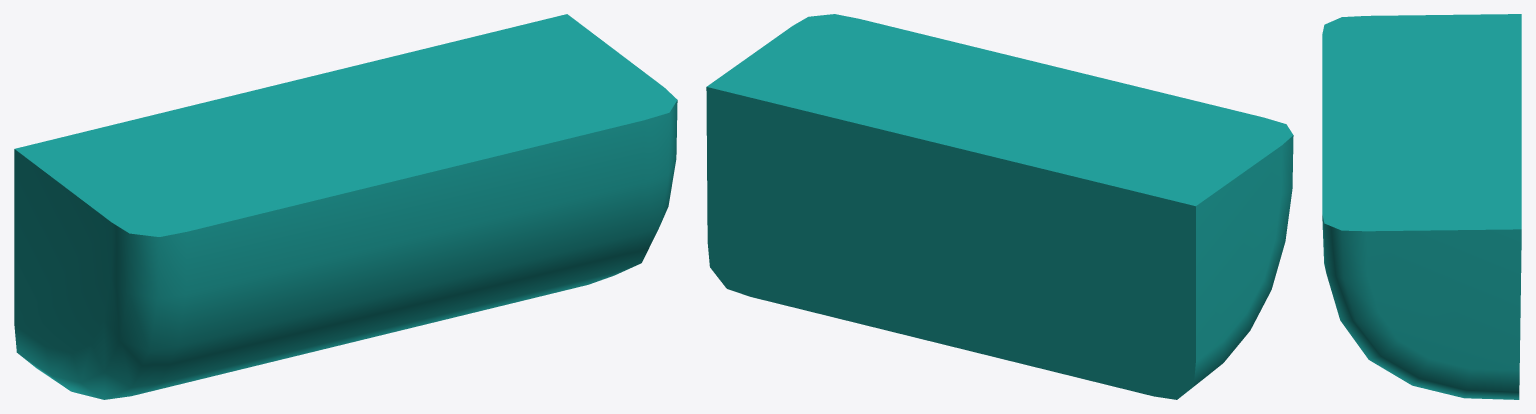
File: SM_PeriscopeExitButton.fbx
3 views of the same model, side by side, from view 1: azimuth 30°, elevation 25°; view 2: azimuth 150°, elevation 25°; view 3: azimuth 270°, elevation 25° (orthographic). The views are drawn at different scales.
Visible parts, largest first — view 1: ExitButton; view 2: ExitButton; view 3: ExitButton.
Boxes of the visible parts, bbox=[...] form: ExitButton: bbox=[14, 14, 677, 399]; ExitButton: bbox=[706, 14, 1293, 399]; ExitButton: bbox=[1322, 14, 1521, 399].
Size of the model in its own units: 0.2099 by 0.0822 by 0.0822.
1 material, 1 textured.
